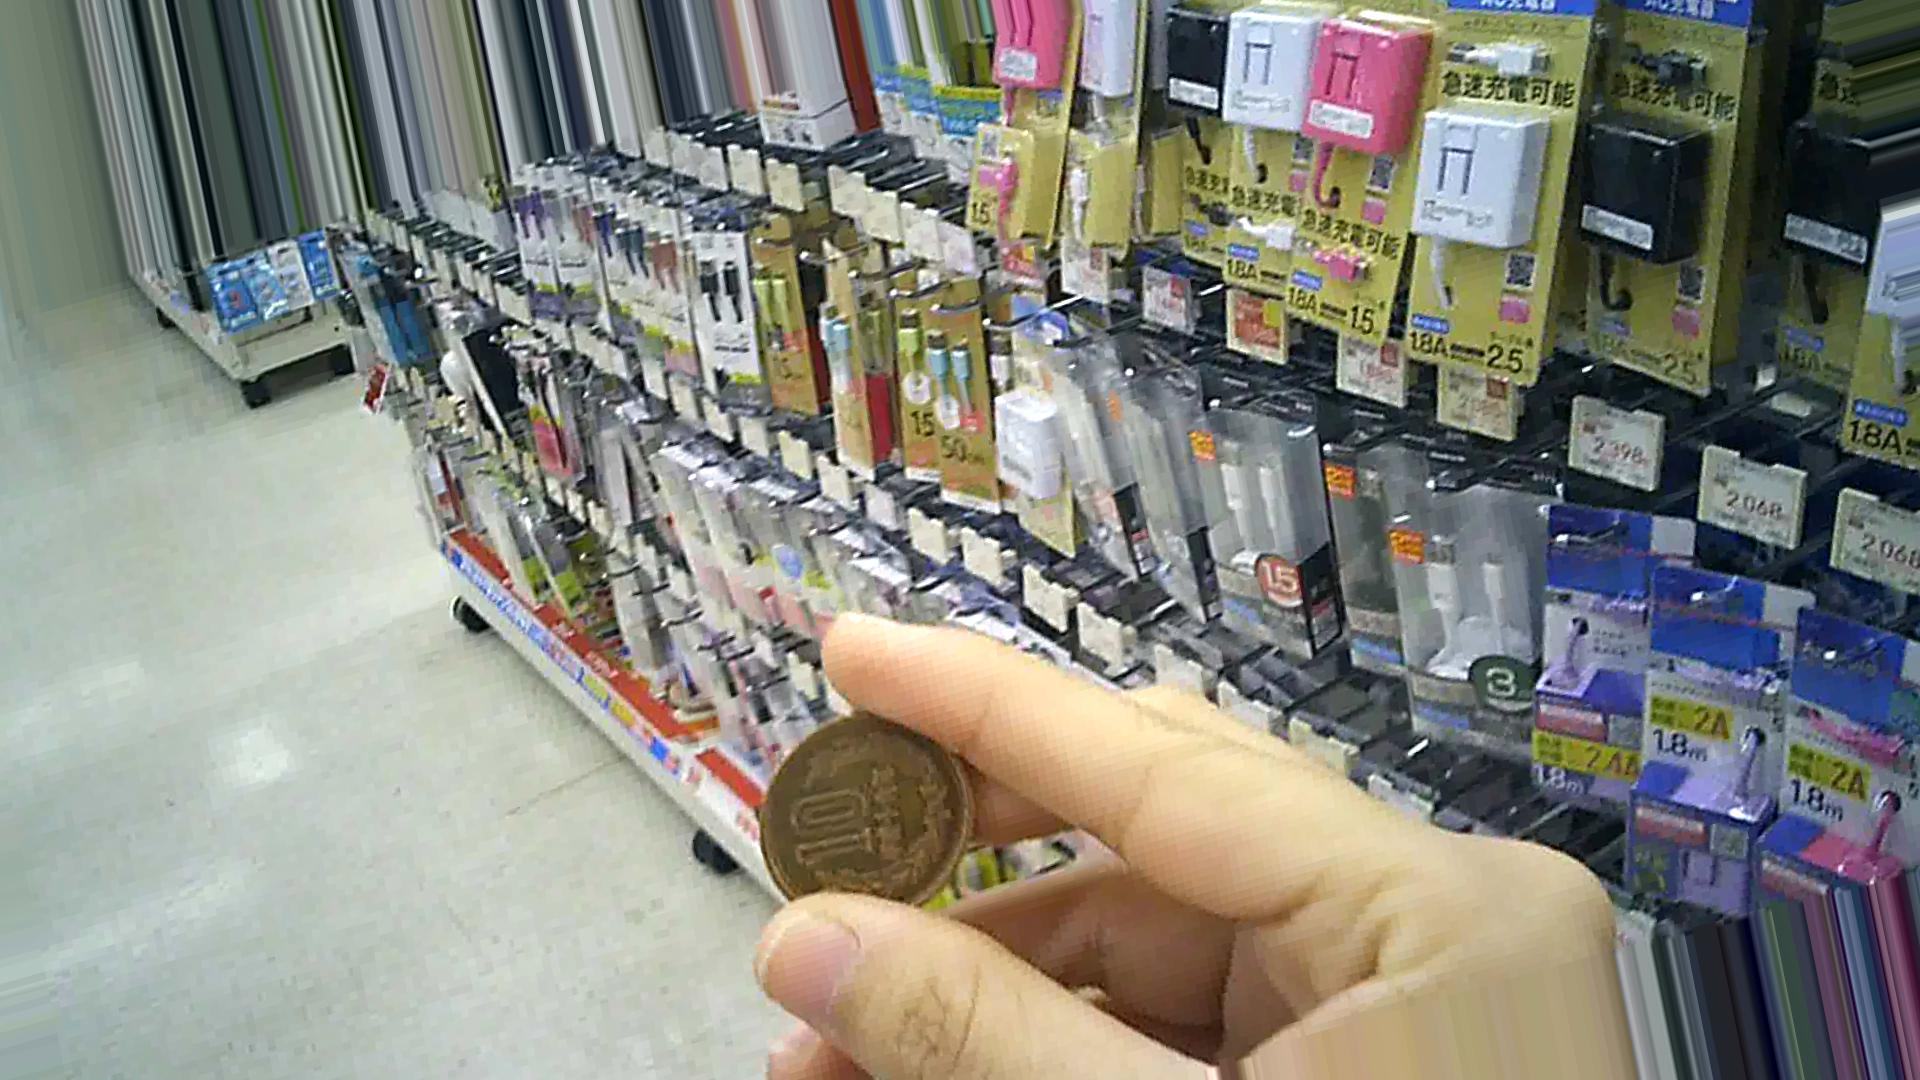10 Yen: (745, 702, 977, 913)
